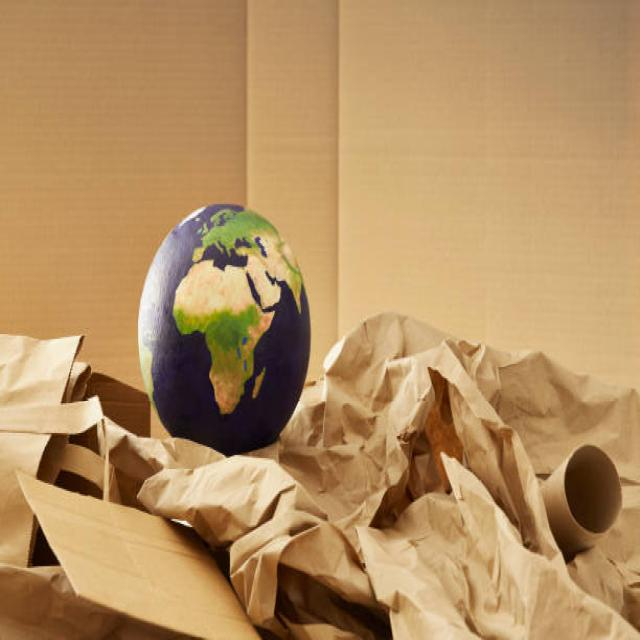paper: (329, 330, 549, 636), (5, 448, 308, 640), (544, 425, 630, 554)
